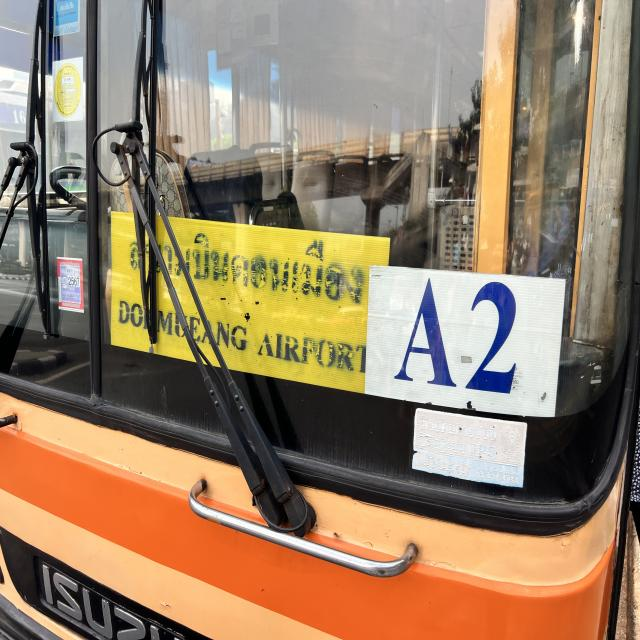BMTA-bus: (0, 0, 640, 640)
Destination-Sign-Normal-Expressway: (111, 208, 392, 394)
